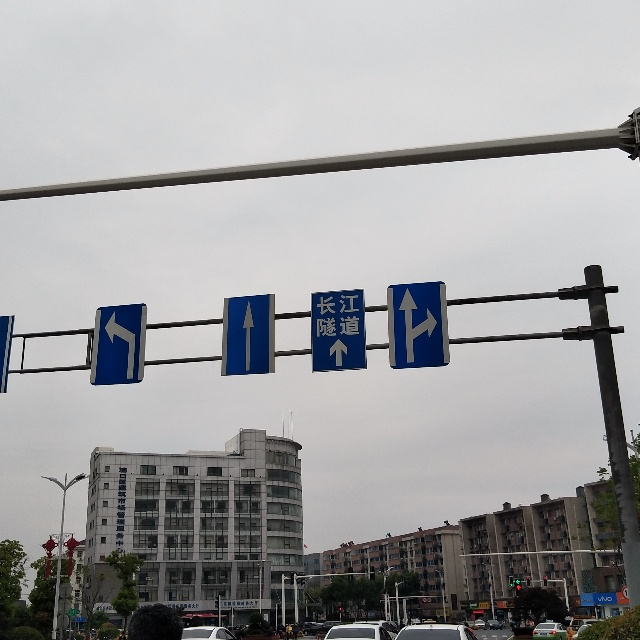left: (100, 308, 143, 381)
straight: (228, 296, 271, 374), (322, 337, 357, 370)
